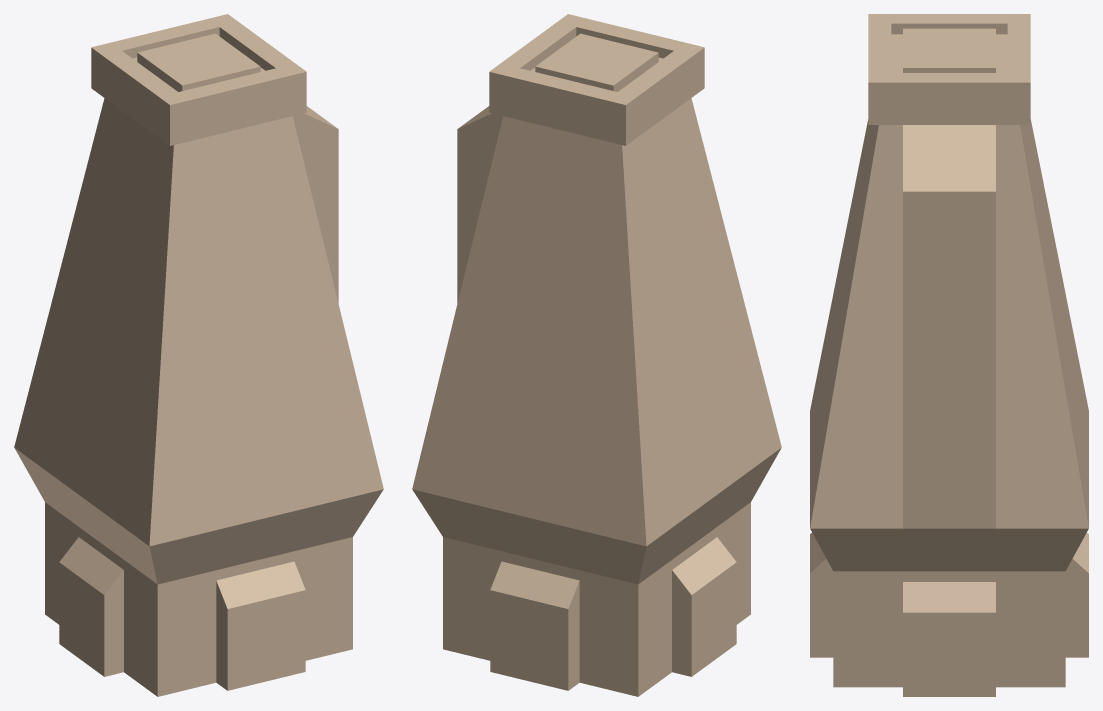
Rendered from machine_blast_furnace.obj.
3 renders of one model, left to right at view 1: azimuth 30°, elevation 25°; view 2: azimuth 150°, elevation 25°; view 3: azimuth 270°, elevation 25°, orthographic. The views are drawn at different scales.
Parts seen in each view (by area): view 1: Plane; view 2: Plane; view 3: Plane.
Part boxes in pixels (bbox=[...]): Plane: bbox=[14, 14, 383, 696]; Plane: bbox=[412, 14, 781, 696]; Plane: bbox=[810, 14, 1088, 696].
Bounding box in the file's own units: 3 × 7 × 3.
